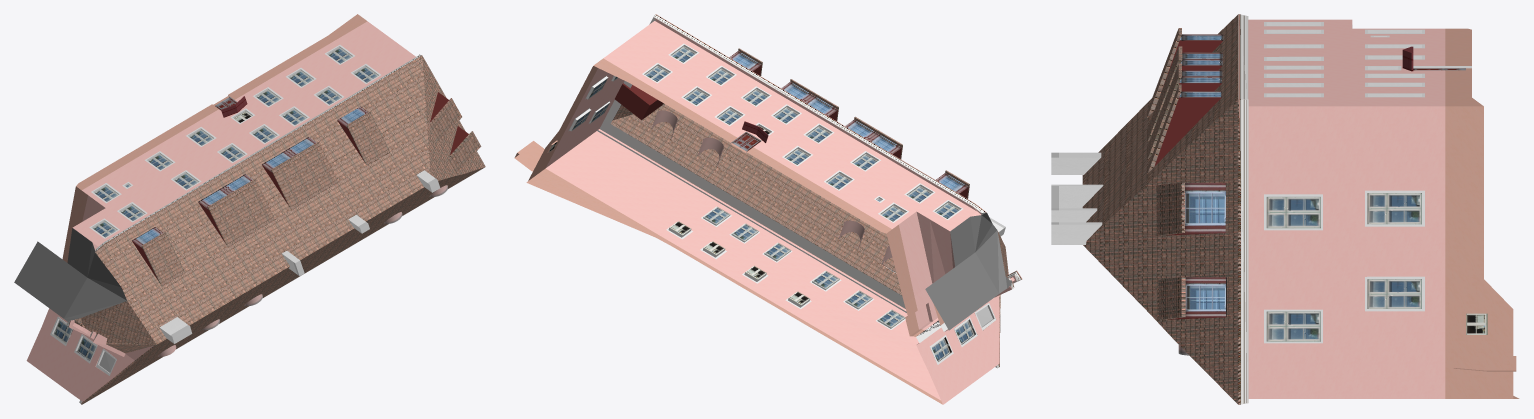
The model's file is Toom-Ryytli_10_1.obj.
3 views of the same model, side by side, from view 1: azimuth 30°, elevation 25°; view 2: azimuth 150°, elevation 25°; view 3: azimuth 270°, elevation 25° (orthographic). The views are drawn at different scales.
Visible parts, largest first — view 1: Toom_Ryytli_10_1; view 2: Toom_Ryytli_10_1; view 3: Toom_Ryytli_10_1.
Boxes of the visible parts, x1,y1,x2,y2 form: Toom_Ryytli_10_1: (14, 14, 485, 404); Toom_Ryytli_10_1: (514, 14, 1022, 404); Toom_Ryytli_10_1: (1051, 14, 1519, 404).
Size of the model in its own units: 38.43 by 23.14 by 19.01.
